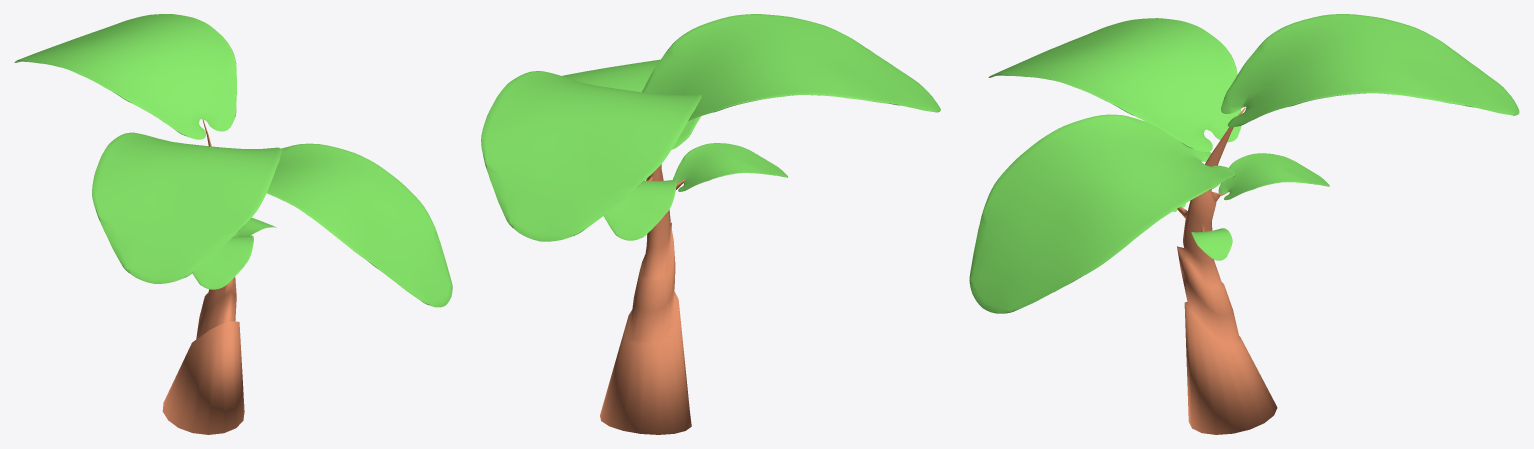
File: BannanaTreeMedium.fbx
3 views of the same model, side by side, from view 1: azimuth 30°, elevation 25°; view 2: azimuth 150°, elevation 25°; view 3: azimuth 270°, elevation 25° (orthographic). The views are drawn at different scales.
Visible parts, largest first — view 1: Leaf0.019, Leaf0.018, Leaf0.020, Trunk, Leaf0.022; view 2: Leaf0.018, Leaf0.019, Trunk, Leaf0.022, Leaf0.021, Leaf0.020; view 3: Leaf0.020, Leaf0.018, Leaf0.019, Trunk, Leaf0.021, Leaf0.023.
Part boxes in pixels (bbox=[...]): Leaf0.019: bbox=[92, 132, 281, 283]; Leaf0.018: bbox=[14, 14, 236, 139]; Leaf0.020: bbox=[267, 143, 452, 307]; Trunk: bbox=[162, 119, 244, 434]; Leaf0.022: bbox=[192, 235, 253, 289]; Leaf0.018: bbox=[481, 71, 701, 241]; Leaf0.019: bbox=[642, 14, 940, 120]; Trunk: bbox=[600, 164, 691, 434]; Leaf0.022: bbox=[673, 143, 787, 191]; Leaf0.021: bbox=[603, 180, 676, 240]; Leaf0.020: bbox=[562, 59, 701, 149]; Leaf0.020: bbox=[969, 114, 1235, 313]; Leaf0.018: bbox=[1221, 14, 1519, 127]; Leaf0.019: bbox=[988, 18, 1241, 151]; Trunk: bbox=[1177, 107, 1277, 434]; Leaf0.021: bbox=[1218, 153, 1329, 200]; Leaf0.023: bbox=[1191, 228, 1232, 260].
Bounding box in the file's own units: 318 × 313 × 429.
